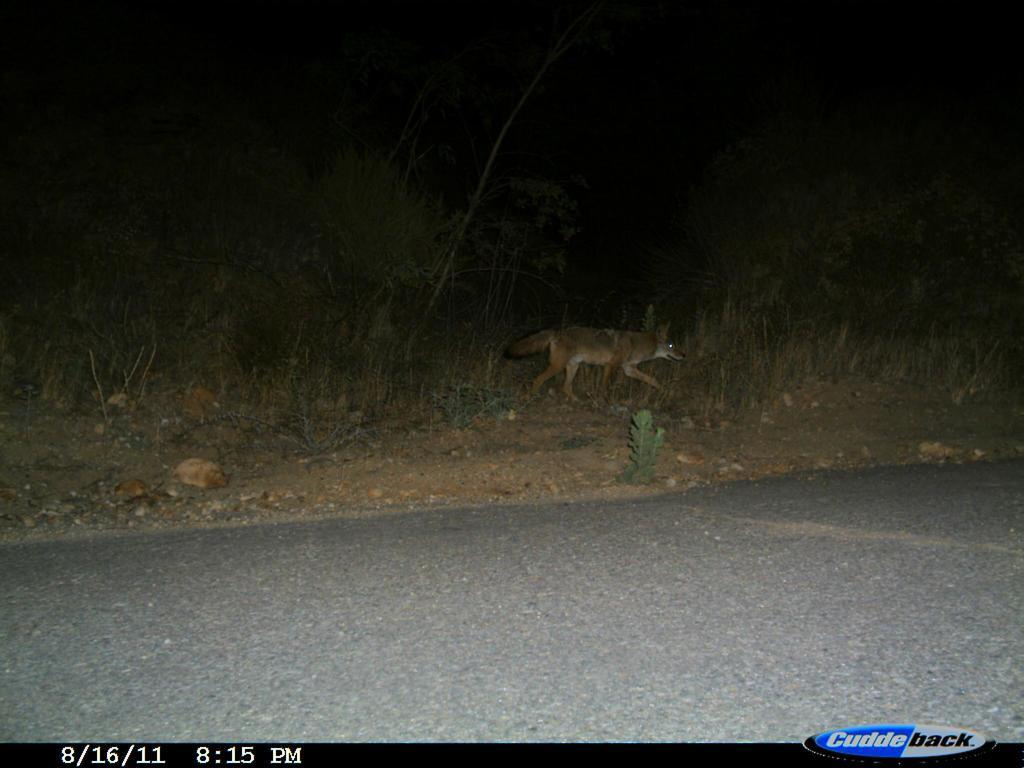coyote: (504, 297, 688, 410)
